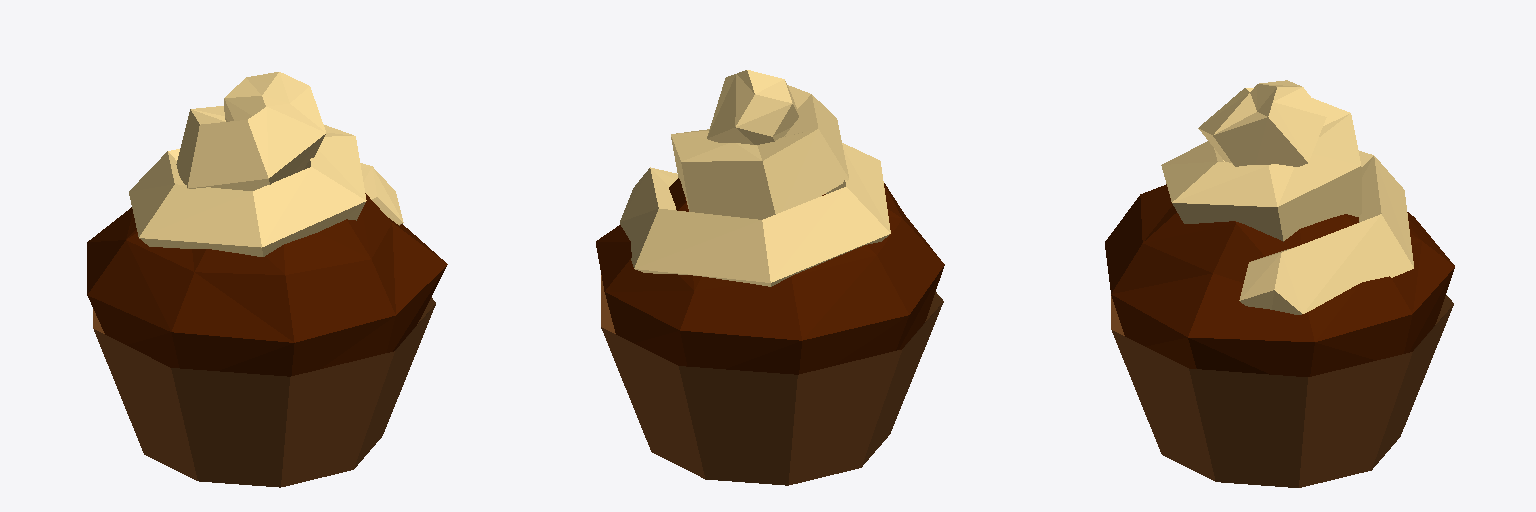
3 renders of one model, left to right at view 1: azimuth 30°, elevation 25°; view 2: azimuth 150°, elevation 25°; view 3: azimuth 270°, elevation 25°, orthographic.
Visible parts, largest first — view 1: Cylinder_Mesh; view 2: Cylinder_Mesh; view 3: Cylinder_Mesh.
Part boxes in pixels (left/top/right/bottom): Cylinder_Mesh: left=87, top=72, right=447, bottom=487; Cylinder_Mesh: left=596, top=70, right=944, bottom=485; Cylinder_Mesh: left=1105, top=80, right=1454, bottom=487.
Bounding box in the file's own units: 0.1227 × 0.136 × 0.1202.
1 materials, 1 textured.